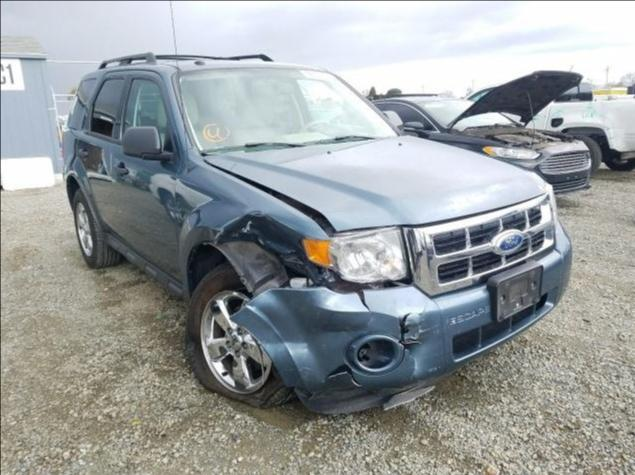Broken part: (229, 222, 568, 413), (176, 149, 341, 299), (181, 261, 299, 408)
Dent: (230, 287, 380, 392), (214, 209, 320, 285), (188, 210, 201, 229)
Missing part: (499, 267, 542, 320), (357, 337, 398, 368)
Scratch: (241, 220, 252, 233), (257, 238, 265, 244), (266, 240, 270, 243)
